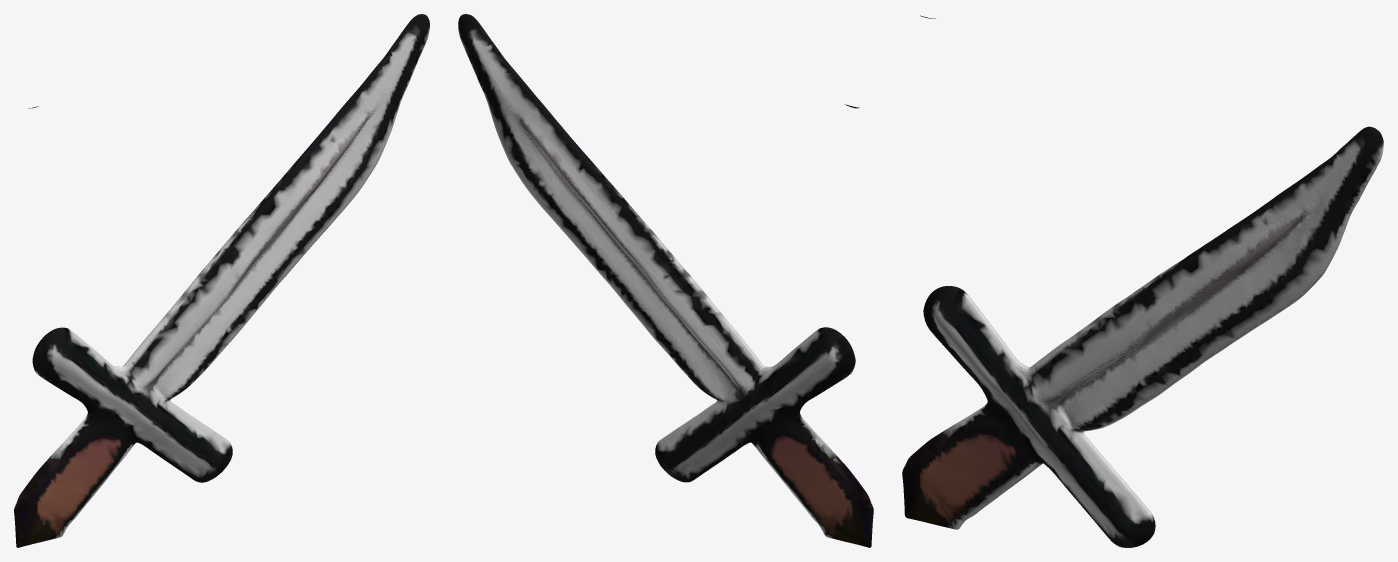
File: sabre.glb
3 views of the same model, side by side, from view 1: azimuth 30°, elevation 25°; view 2: azimuth 150°, elevation 25°; view 3: azimuth 330°, elevation 25° (orthographic). The views are drawn at different scales.
Parts seen in each view (by area): view 1: geometry_0; view 2: geometry_0; view 3: geometry_0.
Boxes of the visible parts, box(x1,y1,x2,y2) form: geometry_0: box(14, 14, 429, 547); geometry_0: box(458, 14, 873, 547); geometry_0: box(902, 15, 1383, 547).
Size of the model in its own units: 0.7812 by 0.7869 by 0.0447.
